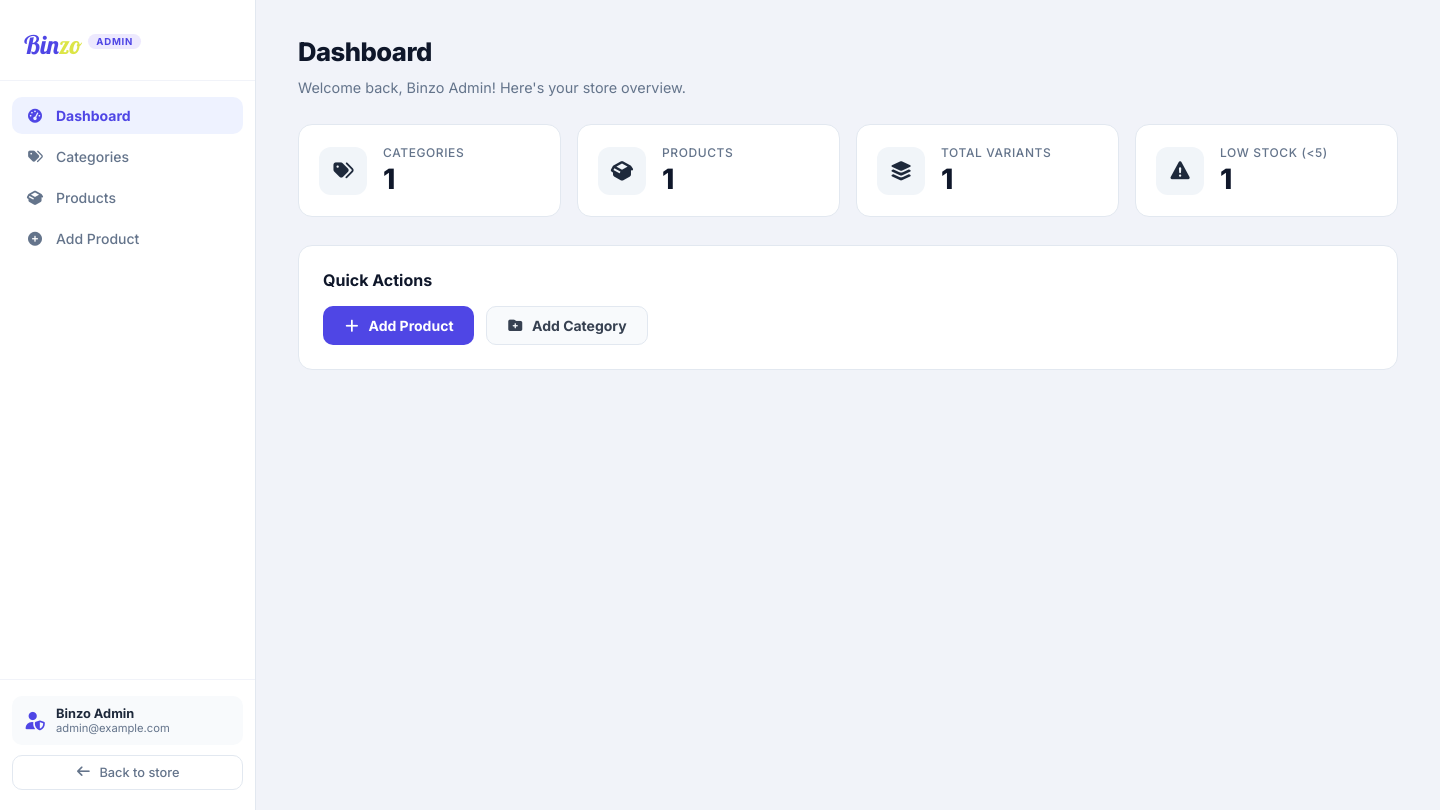
Test case: AdminPage integration › validates required product fields before sending a create request
expect the text "Welcome back, Binzo Admin! Here's your store overview." is shown: met, box [298,79,686,96]
Click the 1st button "Add Product": point(128, 238) [12,220,243,257]
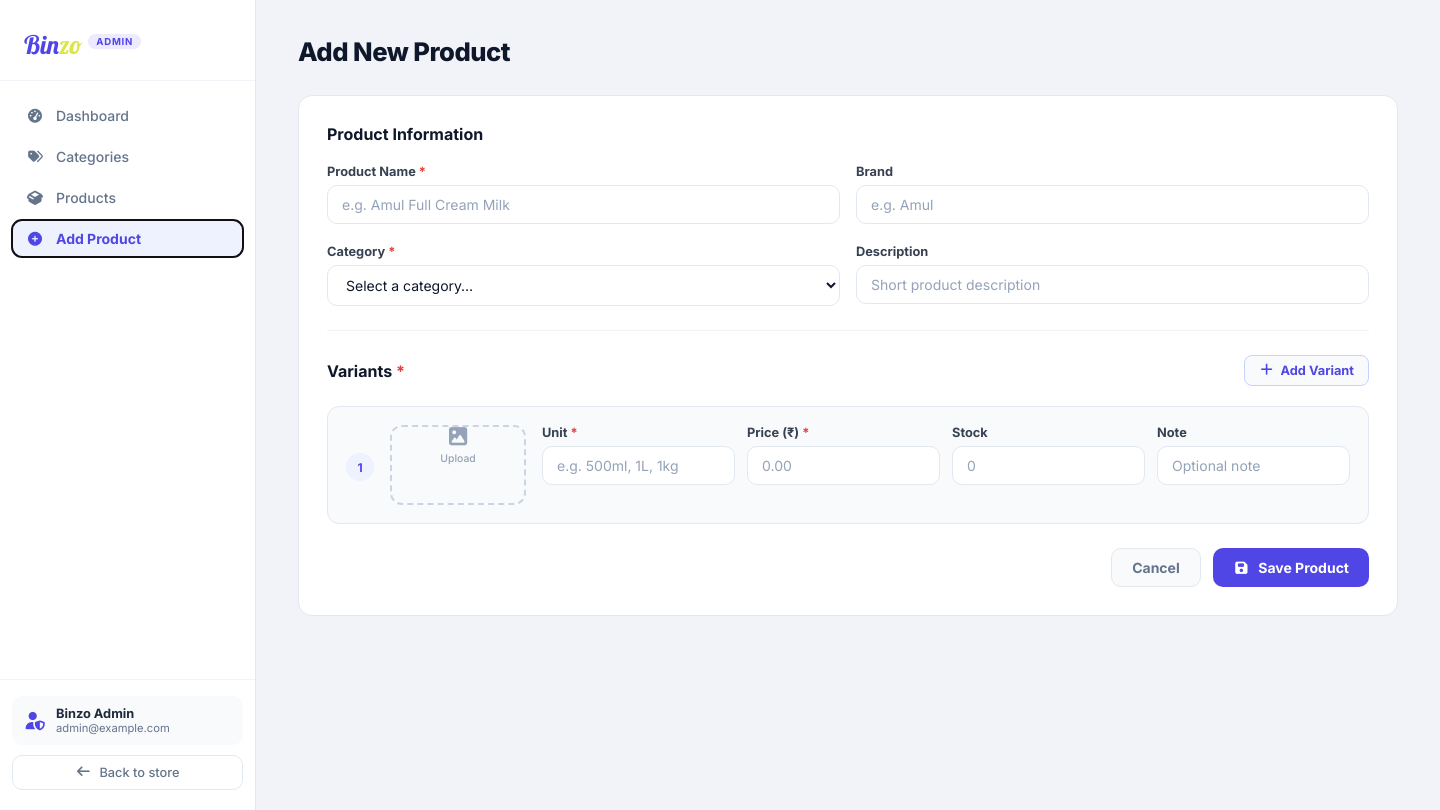
Submit the form named "Save Product", box [298,95,1398,616]
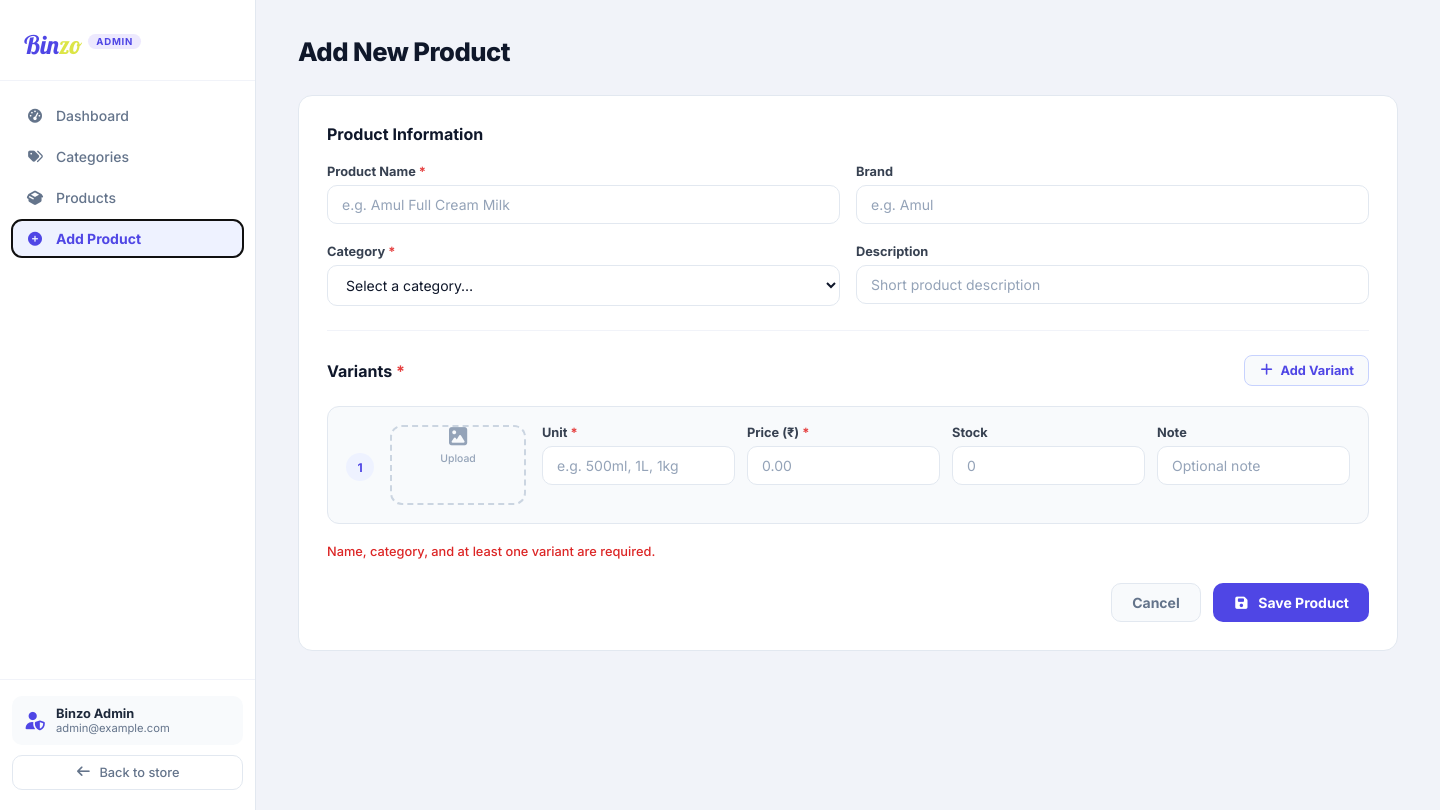
expect the message reads "Name, category, and at least one variant are required.": met, box [327,544,655,559]
